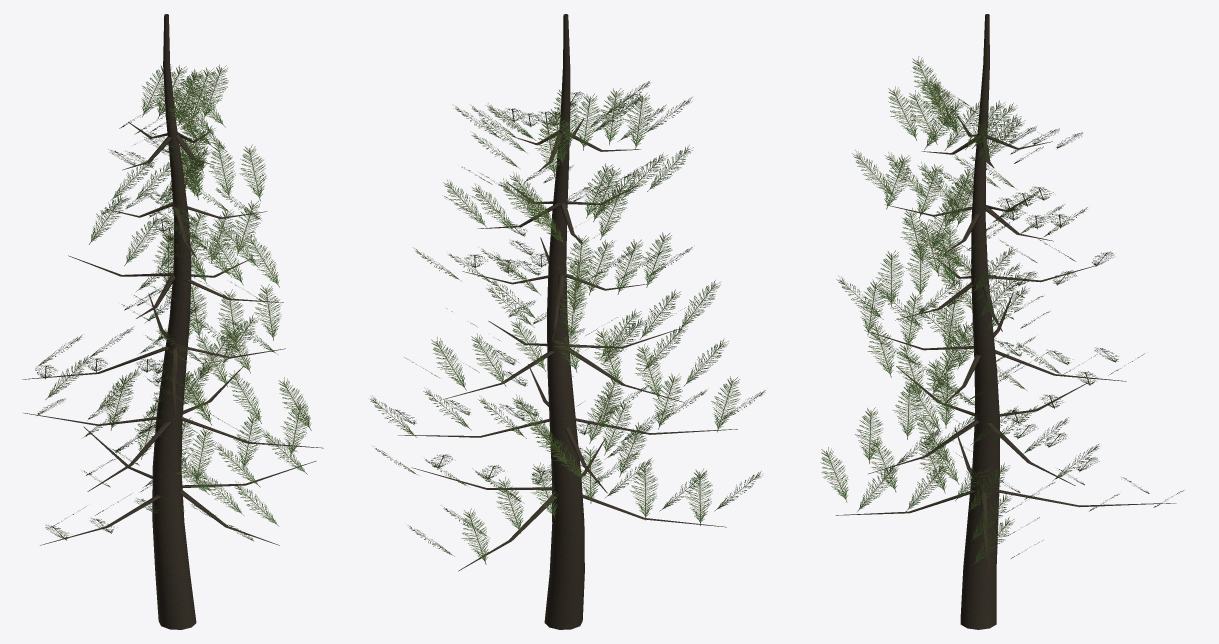
Rendered from Pine_47_LOD1.fbx.
3 renders of one model, left to right at view 1: azimuth 30°, elevation 25°; view 2: azimuth 150°, elevation 25°; view 3: azimuth 270°, elevation 25°, orthographic.
Visible parts, largest first — view 1: Pine_47_LOD1; view 2: Pine_47_LOD1; view 3: Pine_47_LOD1.
Part boxes in pixels (box(x1,y1,x2,y2)): Pine_47_LOD1: box(22, 14, 323, 629); Pine_47_LOD1: box(370, 14, 765, 629); Pine_47_LOD1: box(820, 14, 1183, 629).
Bounding box in the file's own units: 550 × 906 × 548.
